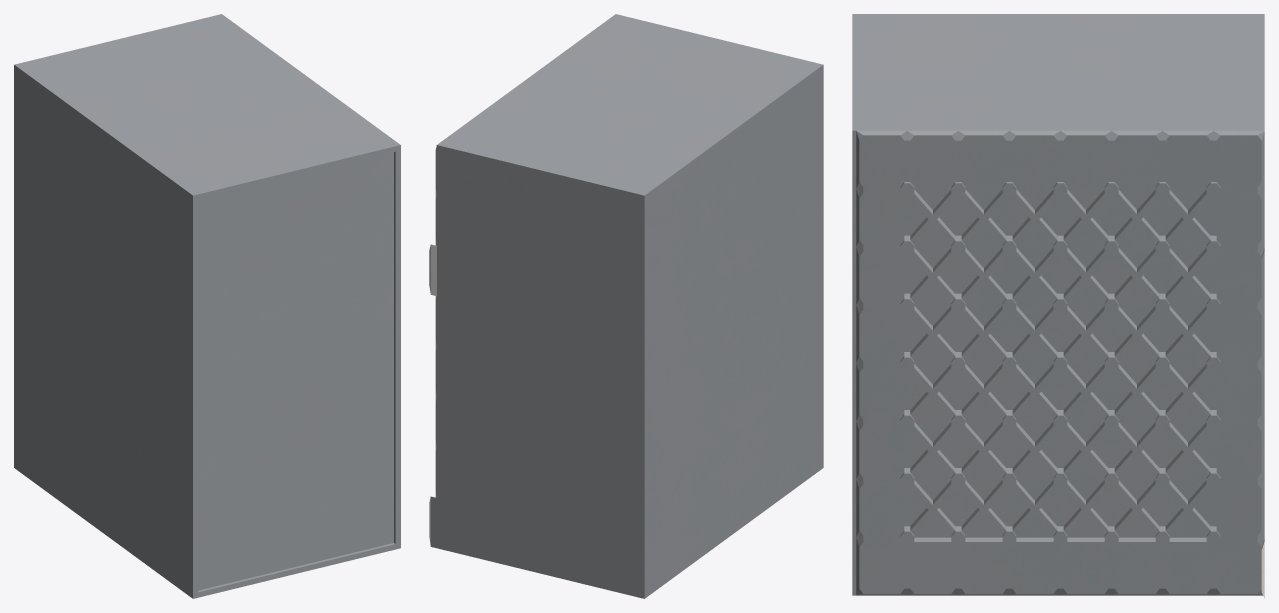
File: 뭔지모름.fbx
The picture shows the model from 3 angles, left to right: view 1: azimuth 30°, elevation 25°; view 2: azimuth 150°, elevation 25°; view 3: azimuth 270°, elevation 25°; orthographic projection. The views are drawn at different scales.
Visible parts, largest first — view 1: Cube; view 2: Cube; view 3: Cube.
Boxes of the visible parts, x1,y1,x2,y2 form: Cube: [14, 14, 400, 598]; Cube: [429, 14, 823, 598]; Cube: [852, 14, 1264, 598].
Bounding box in the file's own units: 31.62 × 56.3 × 45.28.
